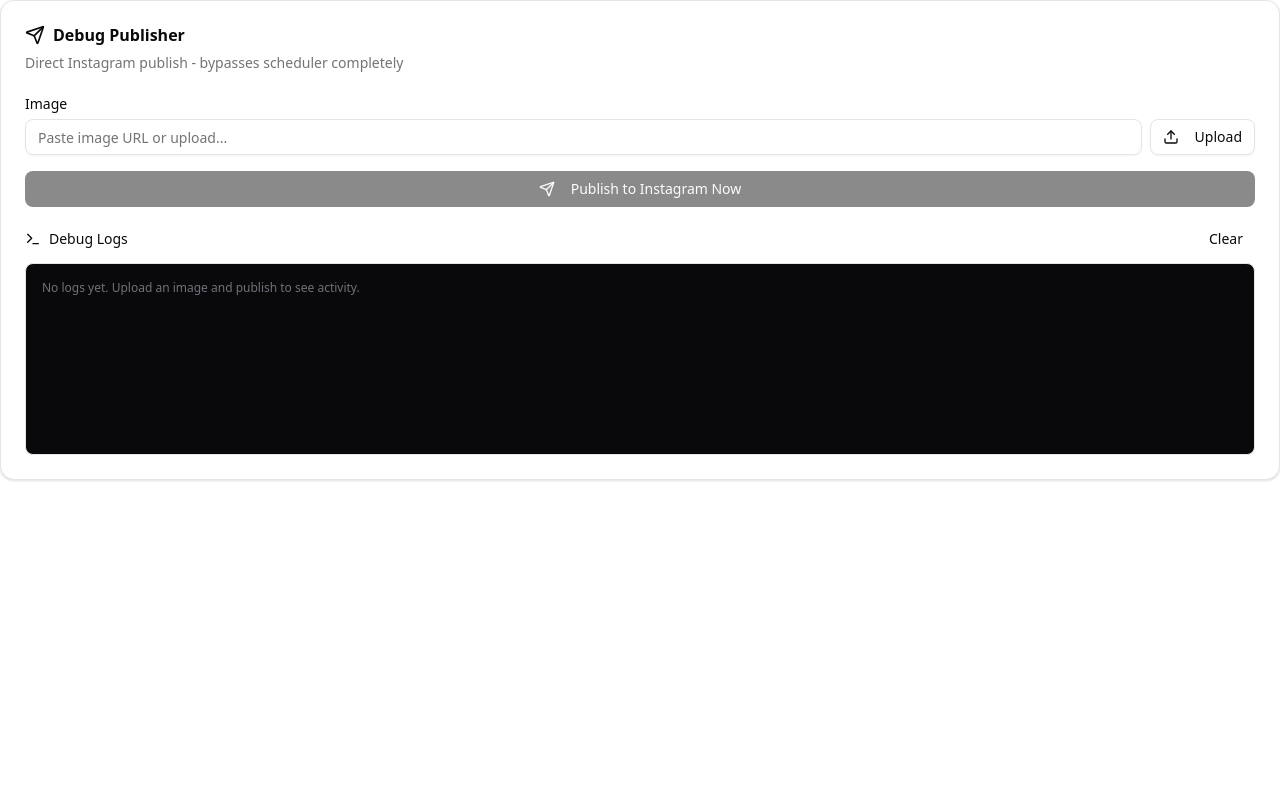
Test: Debug Page Components › DebugPublisherNew › enables publish button when image URL is provided
This screenshot has width=1280, height=800.
In the field with placeholder "Paste image URL or upload...": (583, 137) [25,119,1142,155], type "https://example.com/image.jpg"
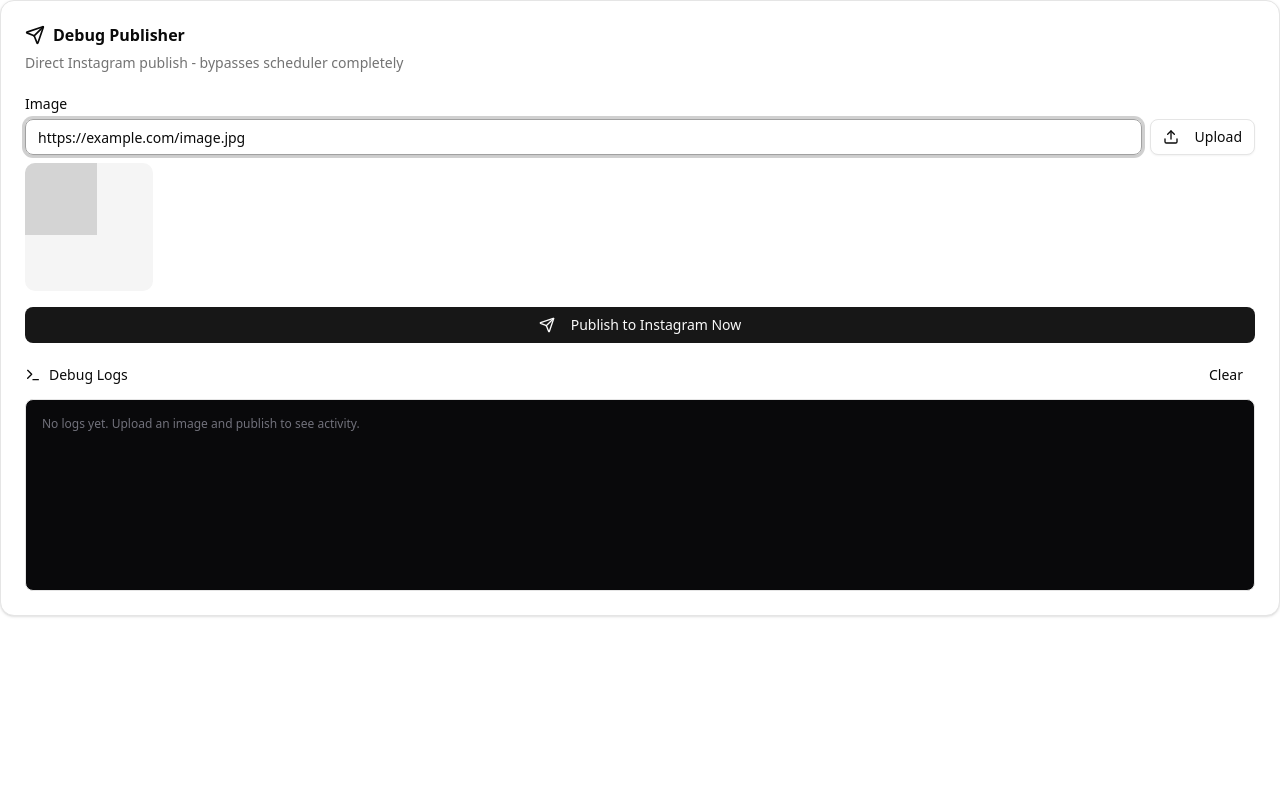
Expected: the button "Publish to Instagram Now" is enabled, [25,307,1255,343]
